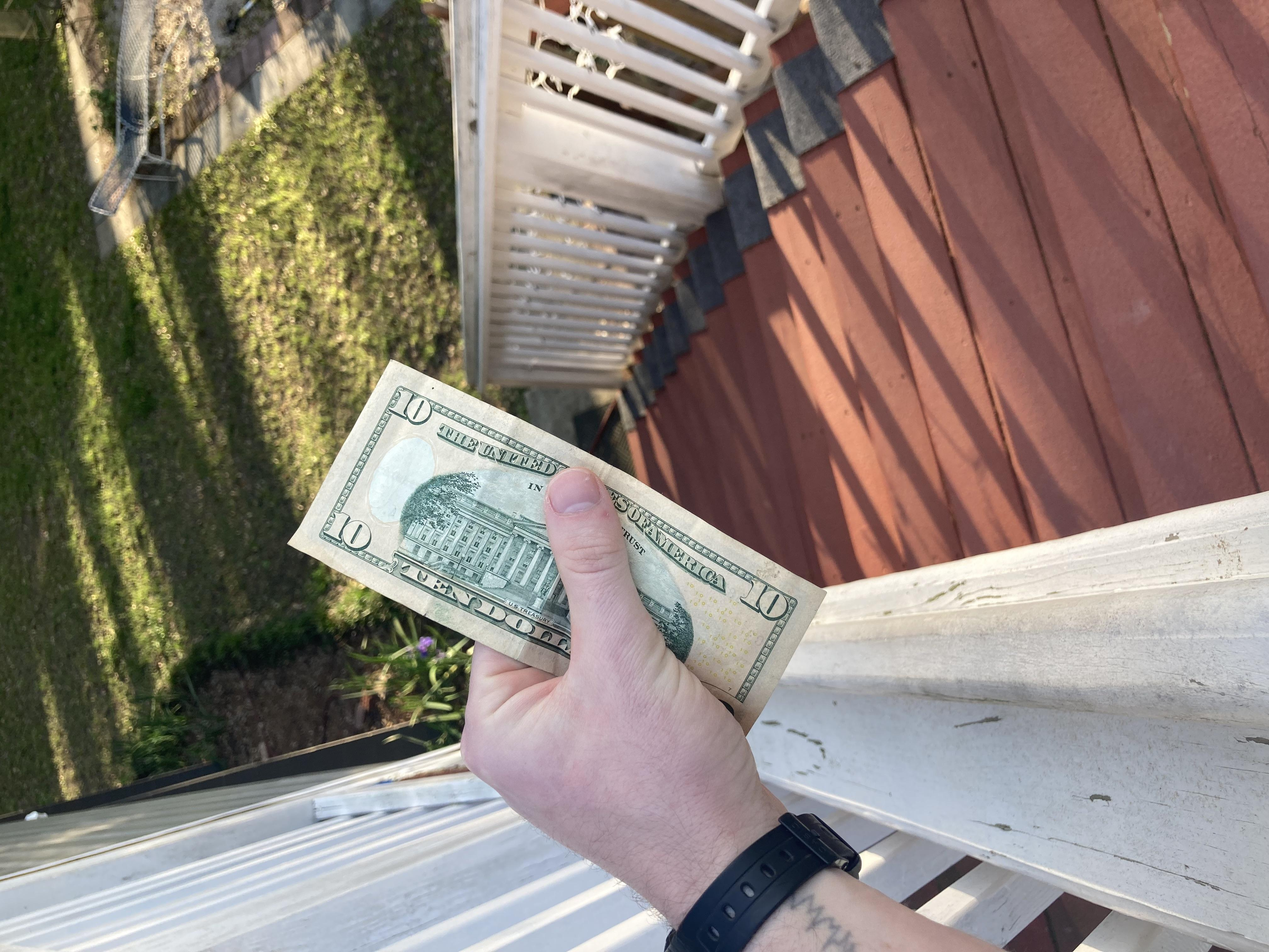ten-back: (268, 217, 792, 619)
